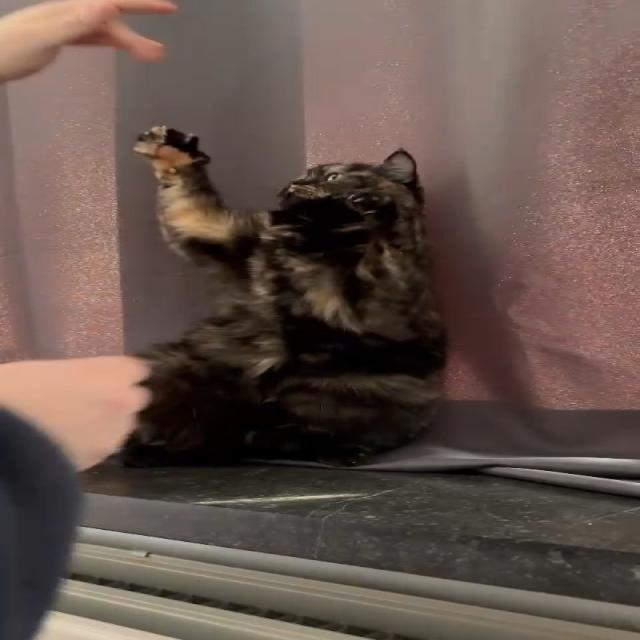authorized: (118, 124, 450, 468)
